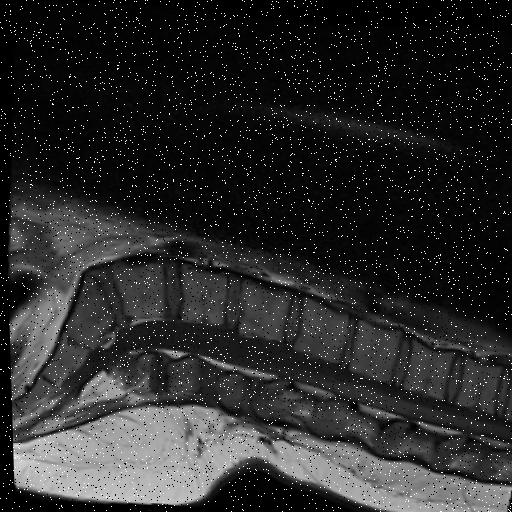L1: (347, 317, 400, 379)
L2: (290, 295, 346, 361)
L3: (236, 278, 288, 338)
L4: (179, 265, 224, 322)
L5: (111, 262, 162, 318)
S1: (64, 270, 111, 347)
